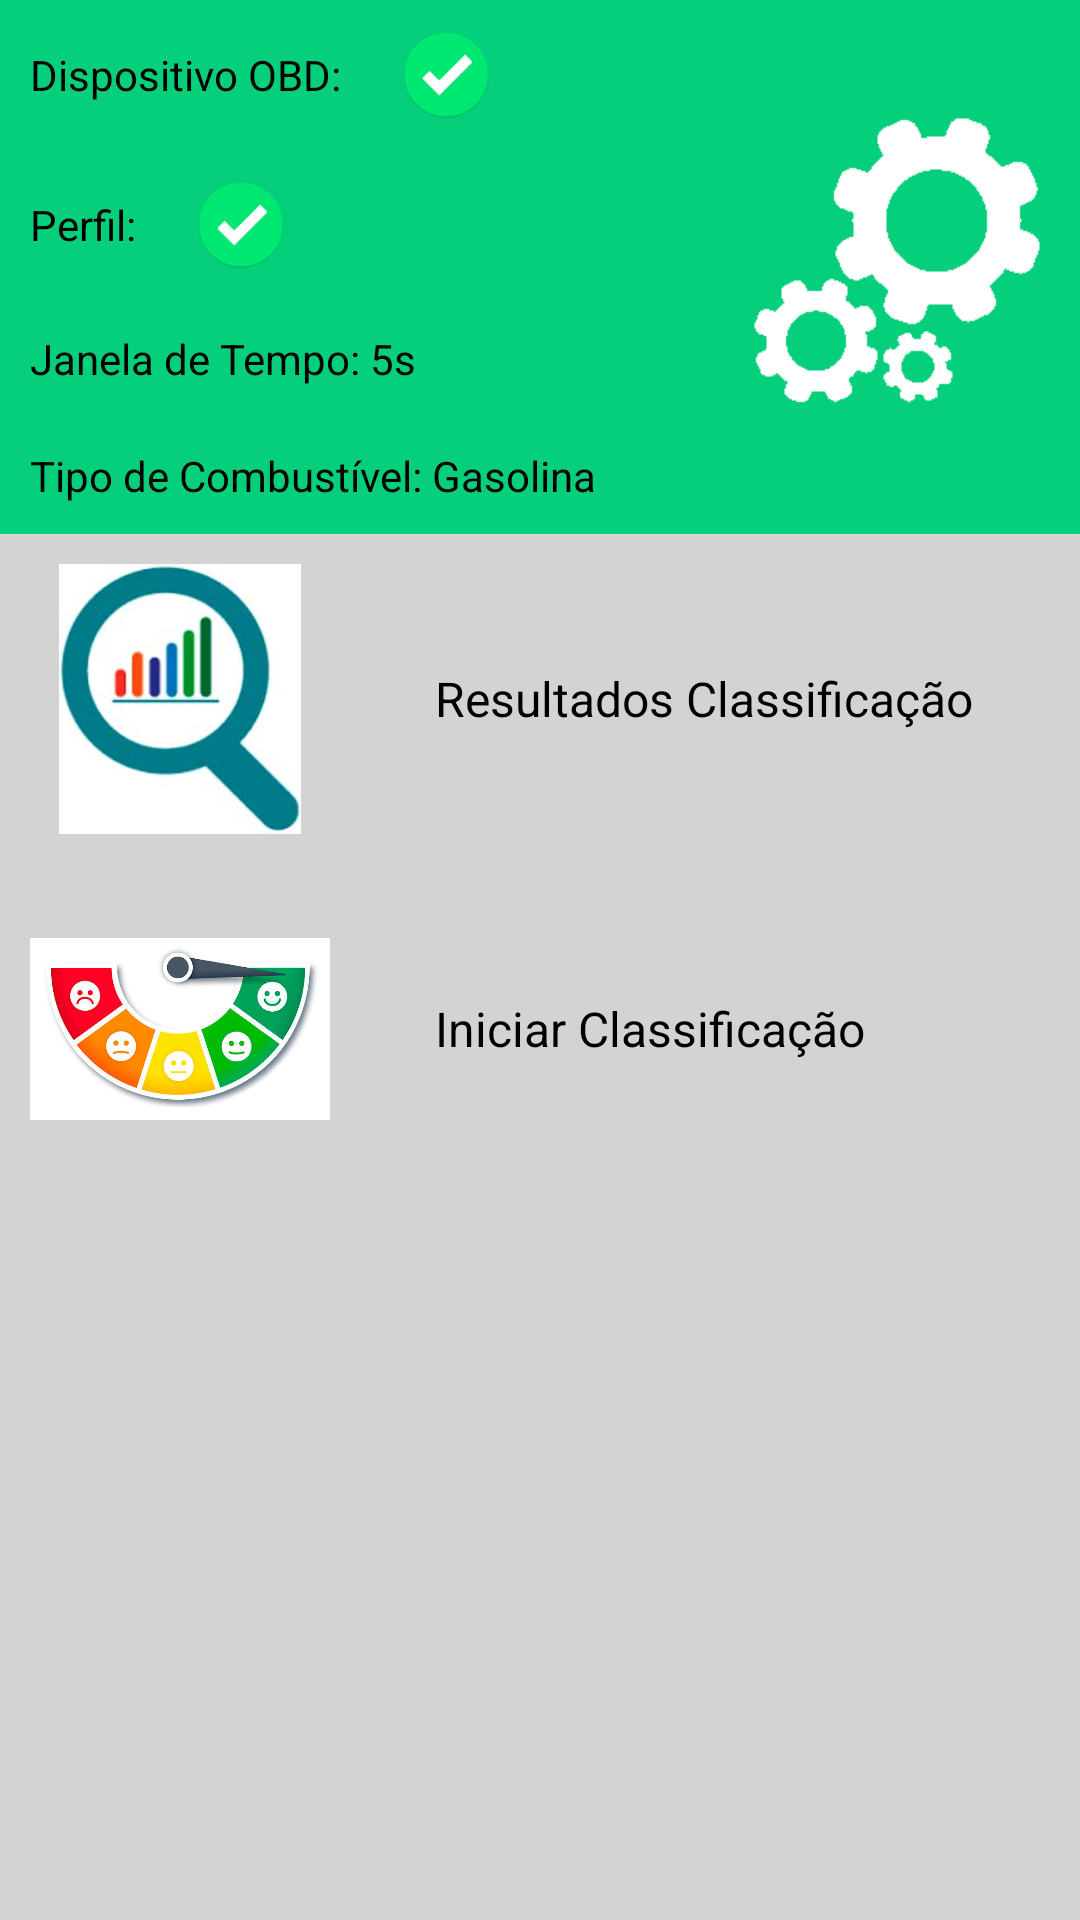

Where to tap for icons on this 1080×1920 app screen, as (x,y):
eng: (897,260)
rating: (180,1029)
